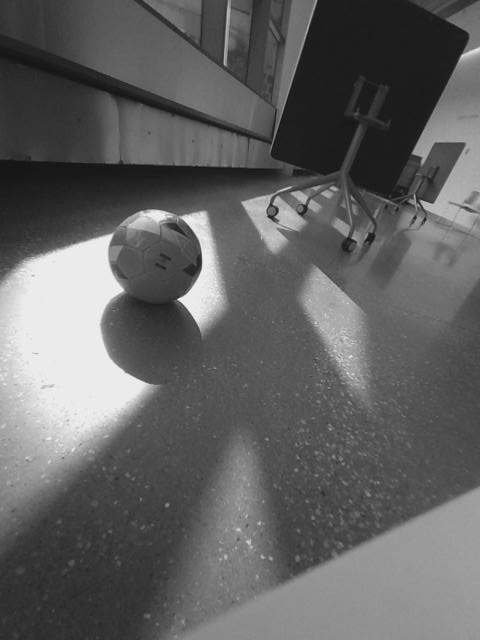ball: (106, 208, 205, 306)
